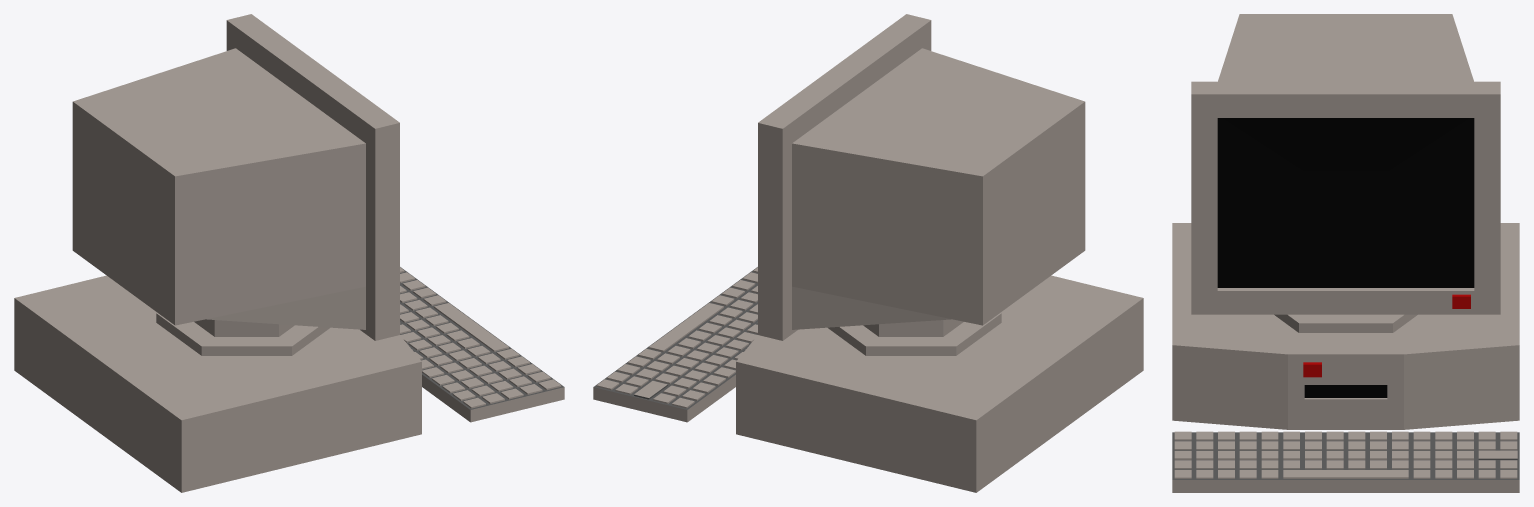
The model's file is computer.glb.
3 views of the same model, side by side, from view 1: azimuth 30°, elevation 25°; view 2: azimuth 150°, elevation 25°; view 3: azimuth 270°, elevation 25° (orthographic). The views are drawn at different scales.
Parts seen in each view (by area): view 1: Cube; view 2: Cube; view 3: Cube.
Part boxes in pixels (<box>): Cube: <box>14,14,564,492</box>; Cube: <box>593,14,1143,492</box>; Cube: <box>1172,14,1519,492</box>.
Bounding box in the file's own units: 4.89 × 3.76 × 3.7.
1 material, 1 textured.
